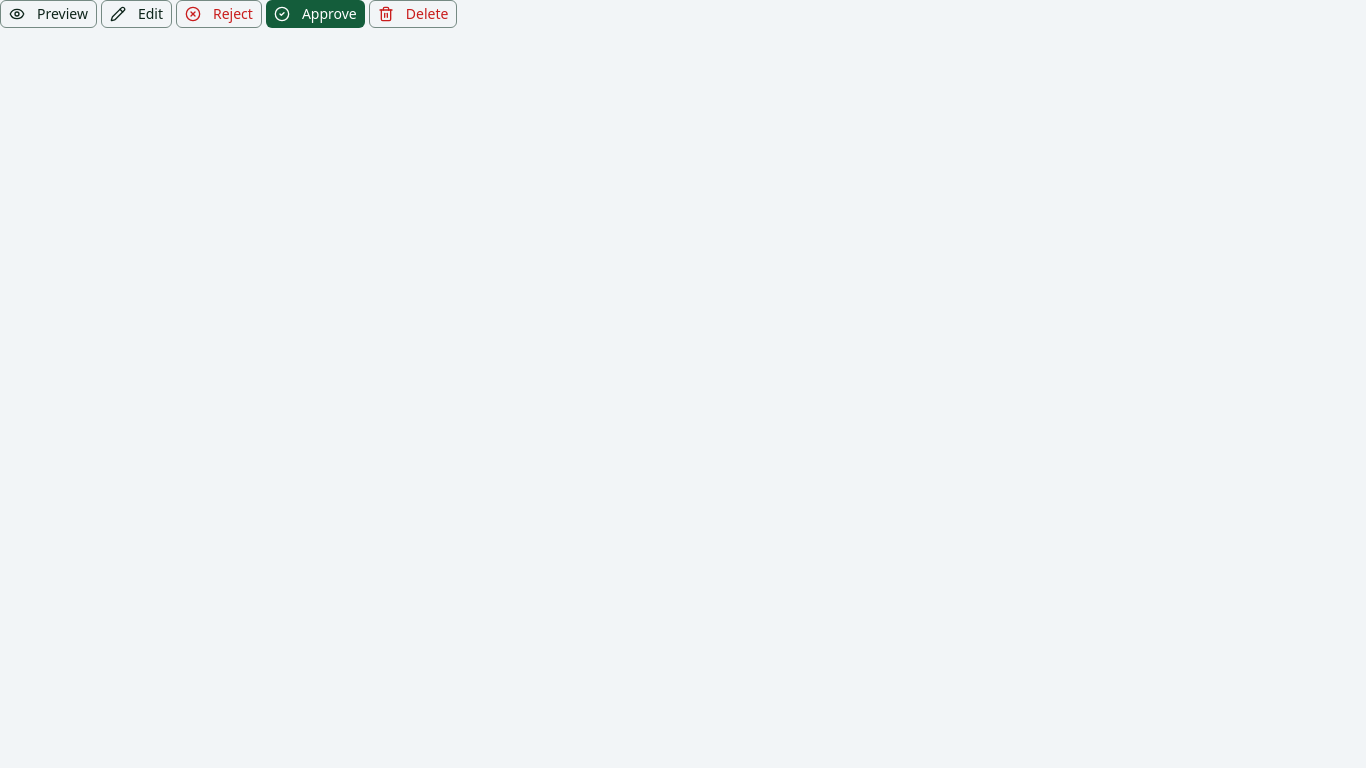
Test case: staff import approval fails closed › requires recorded confirmation even when a successfully loaded list is empty
This screenshot has width=1366, height=768.
Later steps or results of the test are not shown.
Click the button "Approve" at (315, 14), box [266,0,365,28]
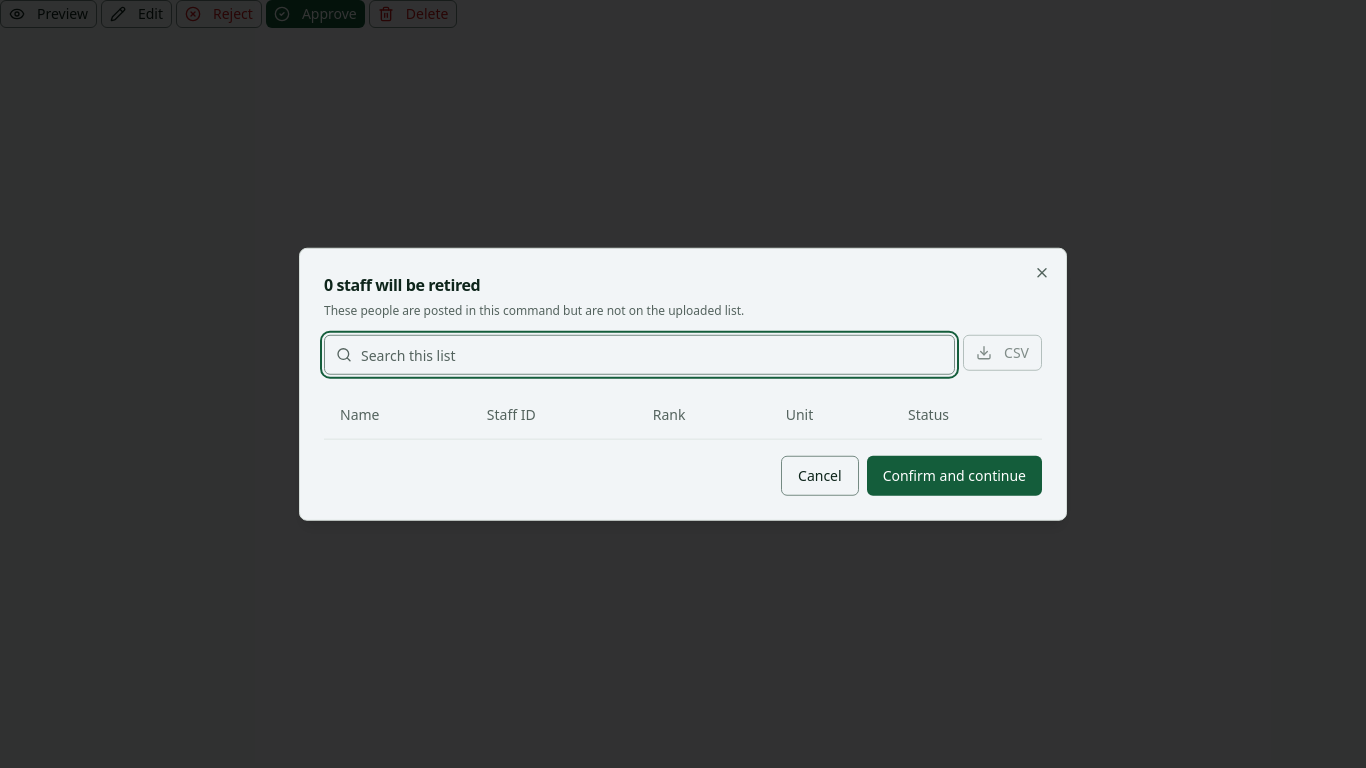
expect the button "Confirm and continue" is enabled: met, box [867,455,1042,495]
